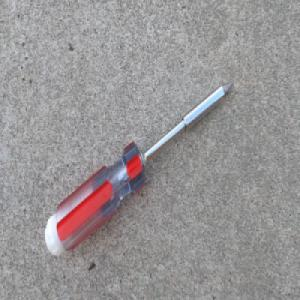Screwdriver: (43, 78, 234, 259)
